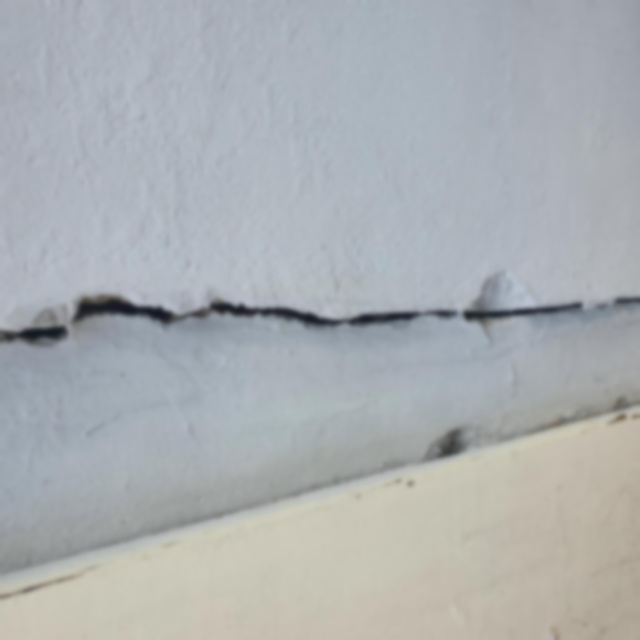SurfaceCrack: (1, 355, 640, 636)
